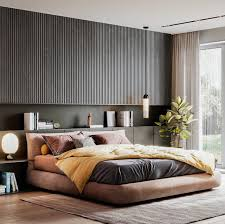bed-matress: (27, 144, 221, 205)
